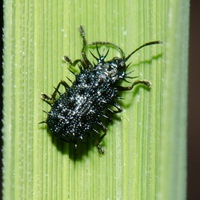insect: (40, 26, 161, 153)
